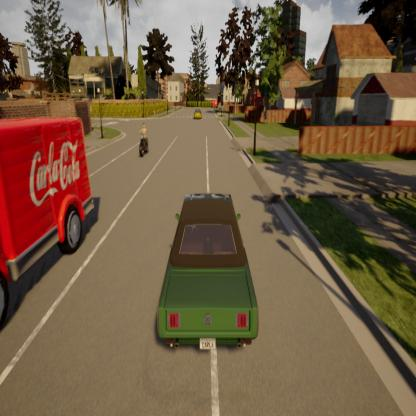Cars: (0, 103, 106, 326), (145, 181, 268, 367)
